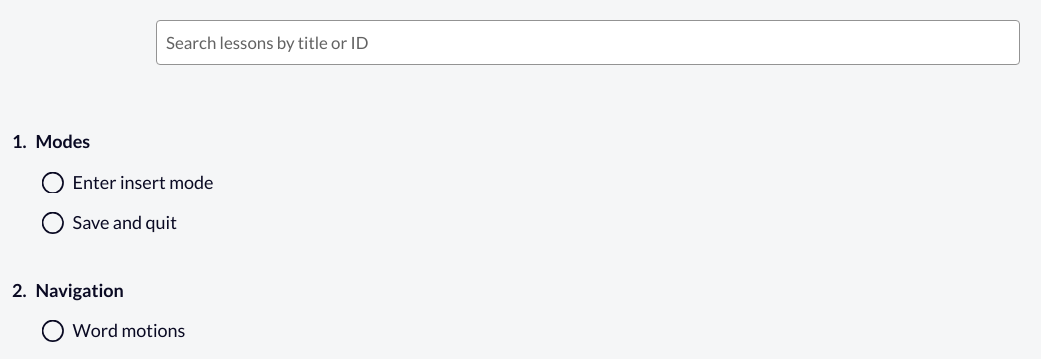
Scenario: CurriculumNavigator › should show an empty result message when no lesson matches
The image size is (1041, 359).
Type "unknown" into the search field at (588, 43), box [157, 21, 1019, 64]
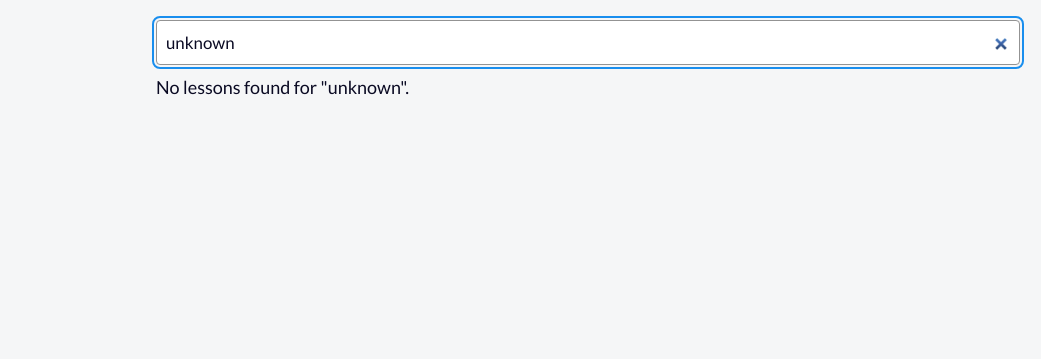
Expected: the text "No lessons found for \"unknown\"." is shown once, [156, 76, 409, 98]
Expected: the message reads "No lessons found for \"unknown\".", [156, 76, 409, 98]
